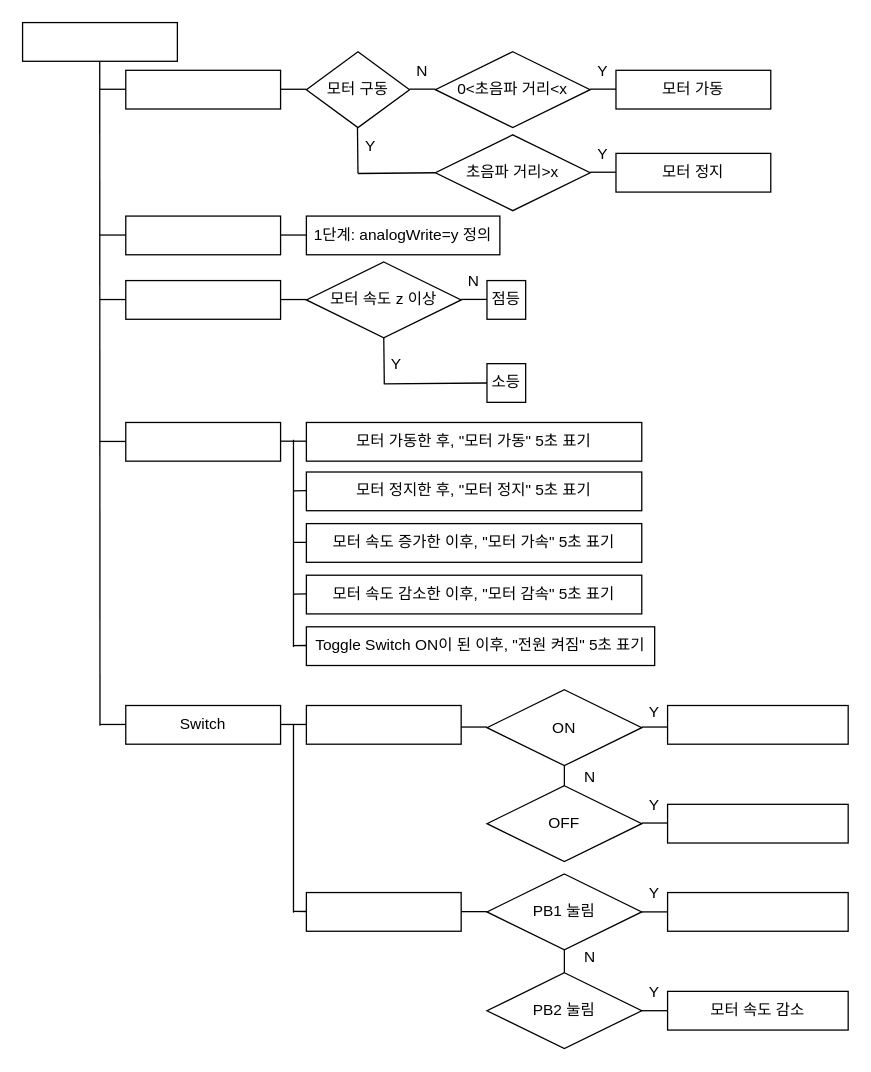
The diagram is 871 pixels wide and 1072 high, and some of its shapes have lost their labels. The shapes that lost their labels are listed below. From the top down, each one's box as (x1, y1, x2, y2) in pixels, then its label:
(21, 21, 177, 61): 아두이노
(124, 69, 281, 109): 초음파 센서
(124, 215, 281, 255): 모터 드라이버
(124, 279, 281, 319): LED
(124, 421, 281, 461): LCD
(305, 704, 461, 744): Toggle
(666, 704, 848, 744): 아두이노/모터 전력 공급
(666, 803, 848, 843): 아두이노/모터 전력 차단
(305, 891, 461, 931): Push Button
(666, 891, 848, 931): 모터 속도 증가
